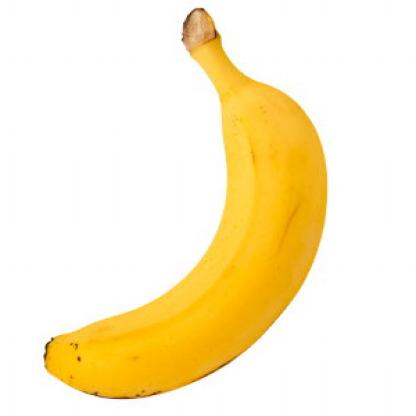banana: (39, 62, 330, 404)
